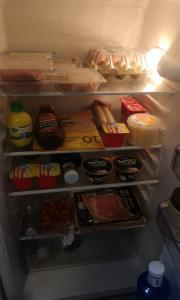Salchichas: (93, 100, 116, 124)
Yogur: (8, 163, 36, 190), (36, 163, 62, 190), (102, 122, 128, 146)
